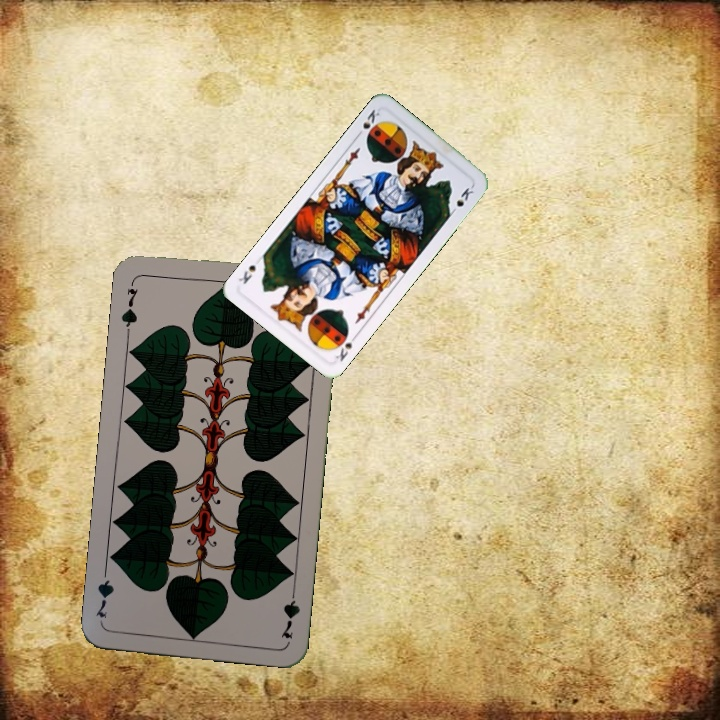G7: (276, 583, 302, 642), (117, 276, 141, 336)
SK: (329, 327, 361, 365), (352, 105, 382, 140)
